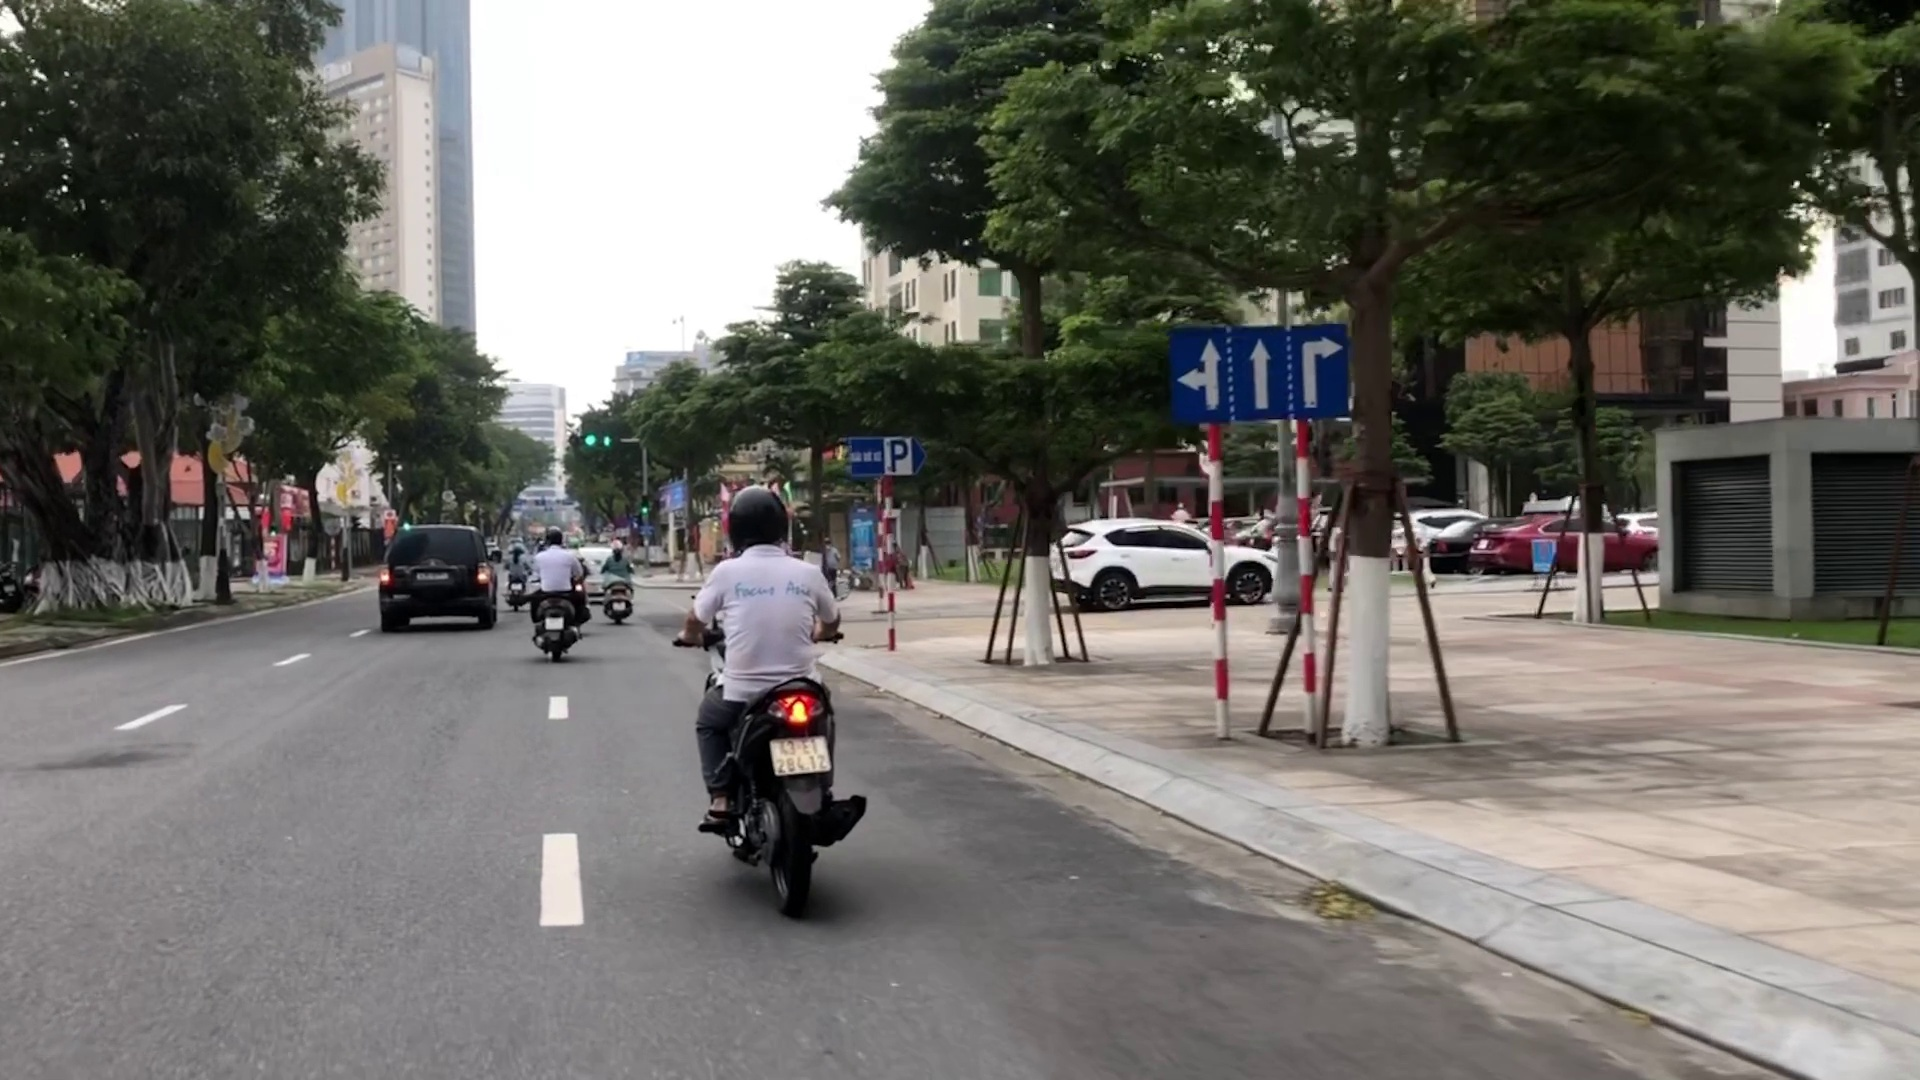Bien khac: (1170, 328, 1350, 418), (849, 440, 923, 477)
